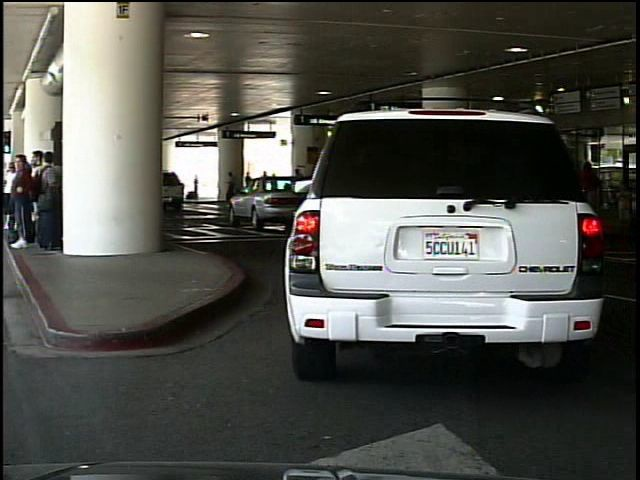person: (226, 170, 238, 200), (193, 174, 201, 201)
